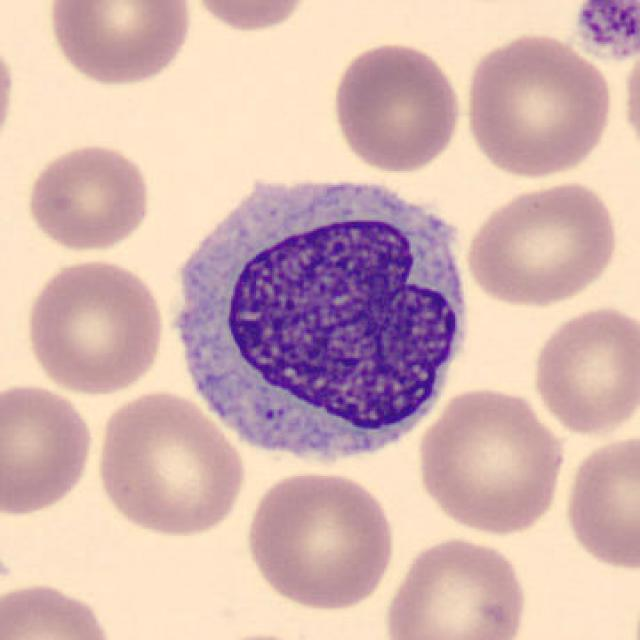Monocyte: (156, 163, 480, 482)
Platelets: (570, 0, 640, 61)
RBC: (412, 382, 570, 538), (91, 388, 249, 539), (461, 28, 615, 182), (242, 467, 398, 612), (462, 178, 622, 309), (21, 256, 169, 396), (327, 39, 466, 174), (378, 532, 532, 640), (21, 139, 155, 254), (528, 301, 638, 439), (43, 0, 197, 88), (0, 379, 96, 518), (560, 430, 638, 573), (0, 576, 117, 640), (184, 0, 318, 35), (620, 36, 640, 168), (0, 30, 20, 159)
